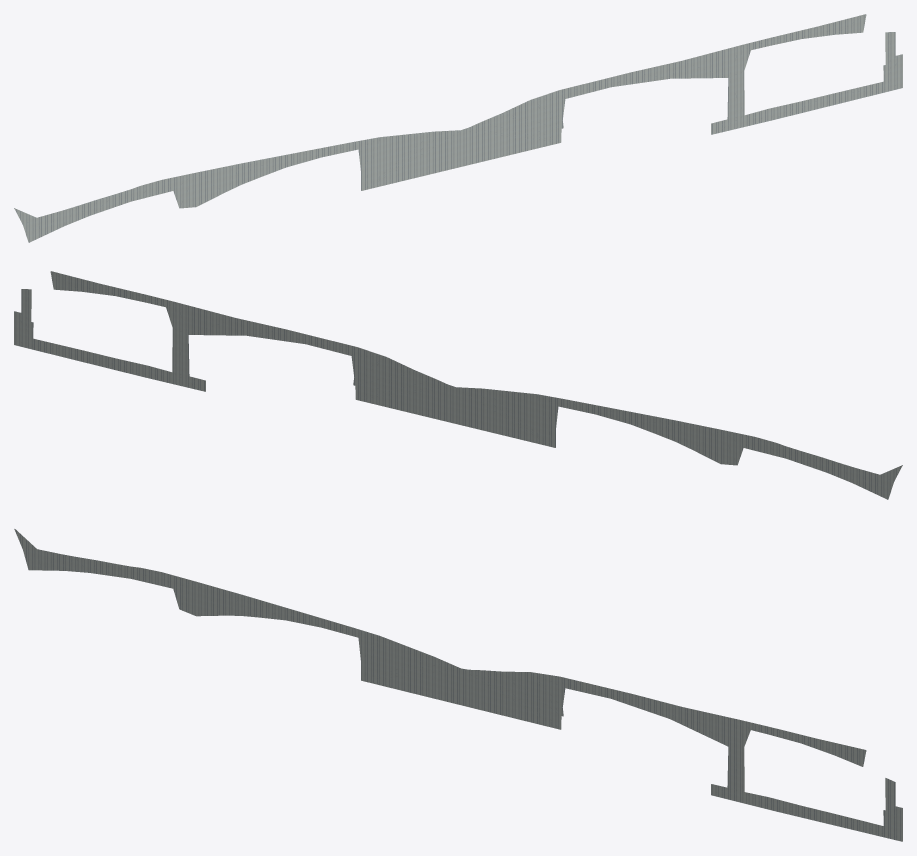
The model's file is floor_65.obj.
3 renders of one model, top to bottom at view 1: azimuth 30°, elevation 25°; view 2: azimuth 150°, elevation 25°; view 3: azimuth 330°, elevation 25°, orthographic.
Visible parts, largest first — view 1: floor_65; view 2: floor_65; view 3: floor_65.
Boxes of the visible parts, bbox=[...] form: floor_65: bbox=[14, 14, 902, 242]; floor_65: bbox=[14, 271, 902, 499]; floor_65: bbox=[14, 529, 902, 841].
Size of the model in its own units: 144 by 15.08 by 0.1.
1 material, 1 textured.
